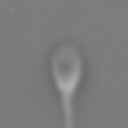normal: (49, 93, 89, 128)
